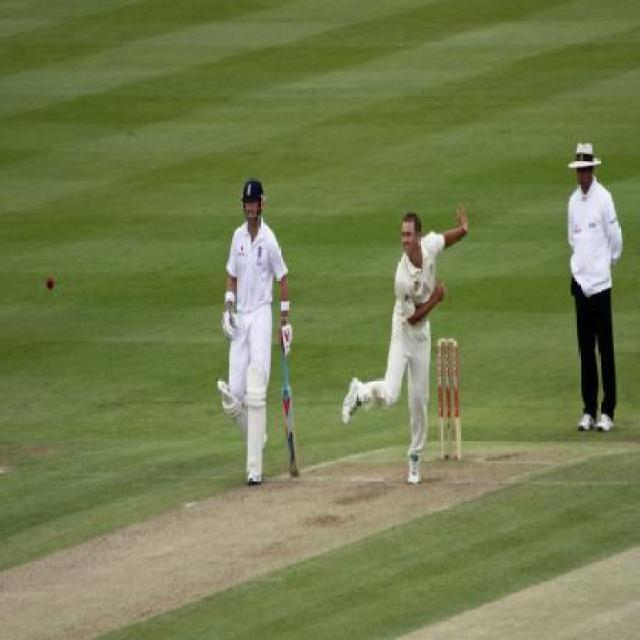-: (37, 257, 66, 306)
